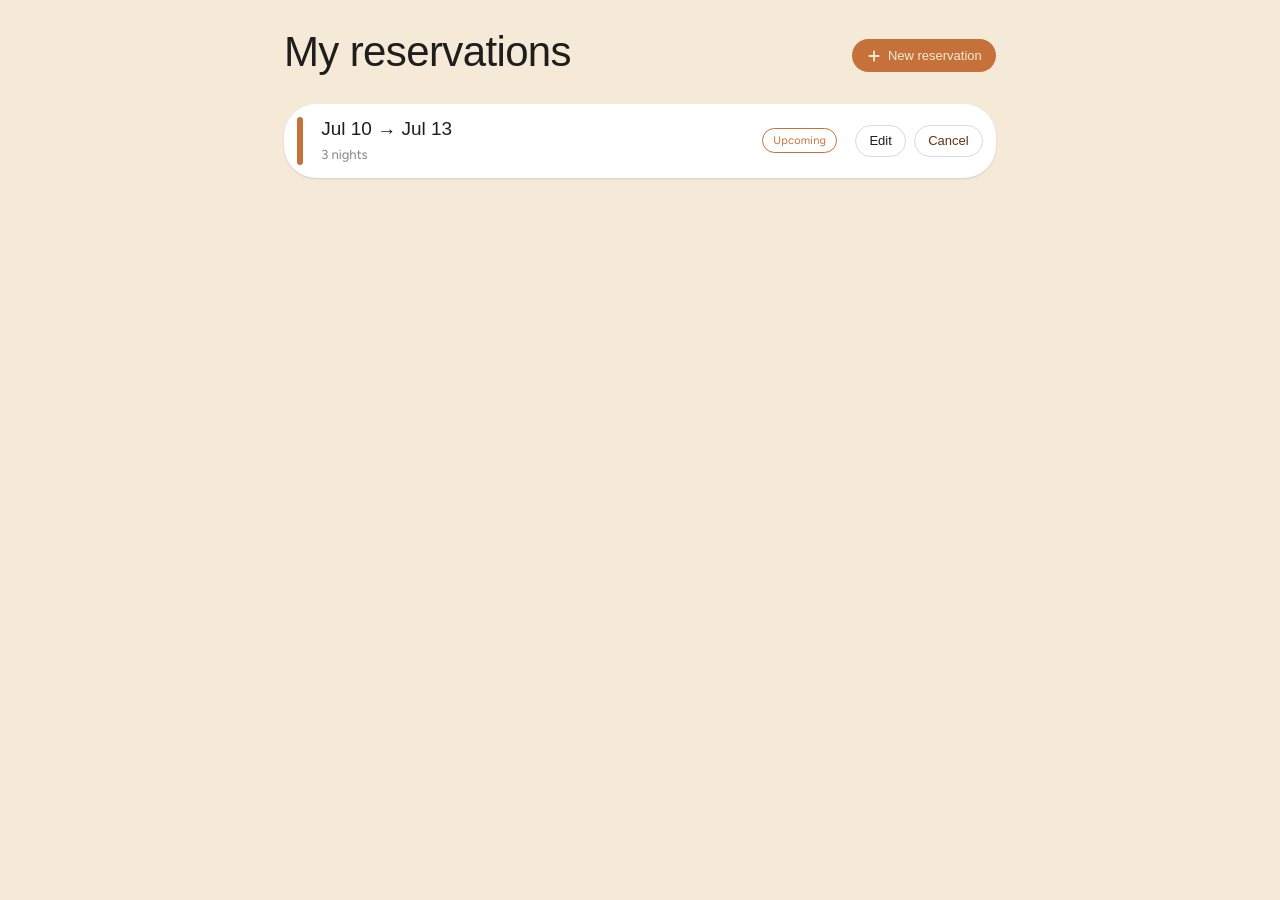
Scenario: CAP-024 Change or cancel a reservation — from My reservations › CAP-024 · New dates must still meet the booking limits (overlap shown, Save changes disabled)
Expected: the heading "My reservations" is shown, [284,28,571,75]
Click the button "Edit" at (881, 141), box [855,125,906,157]
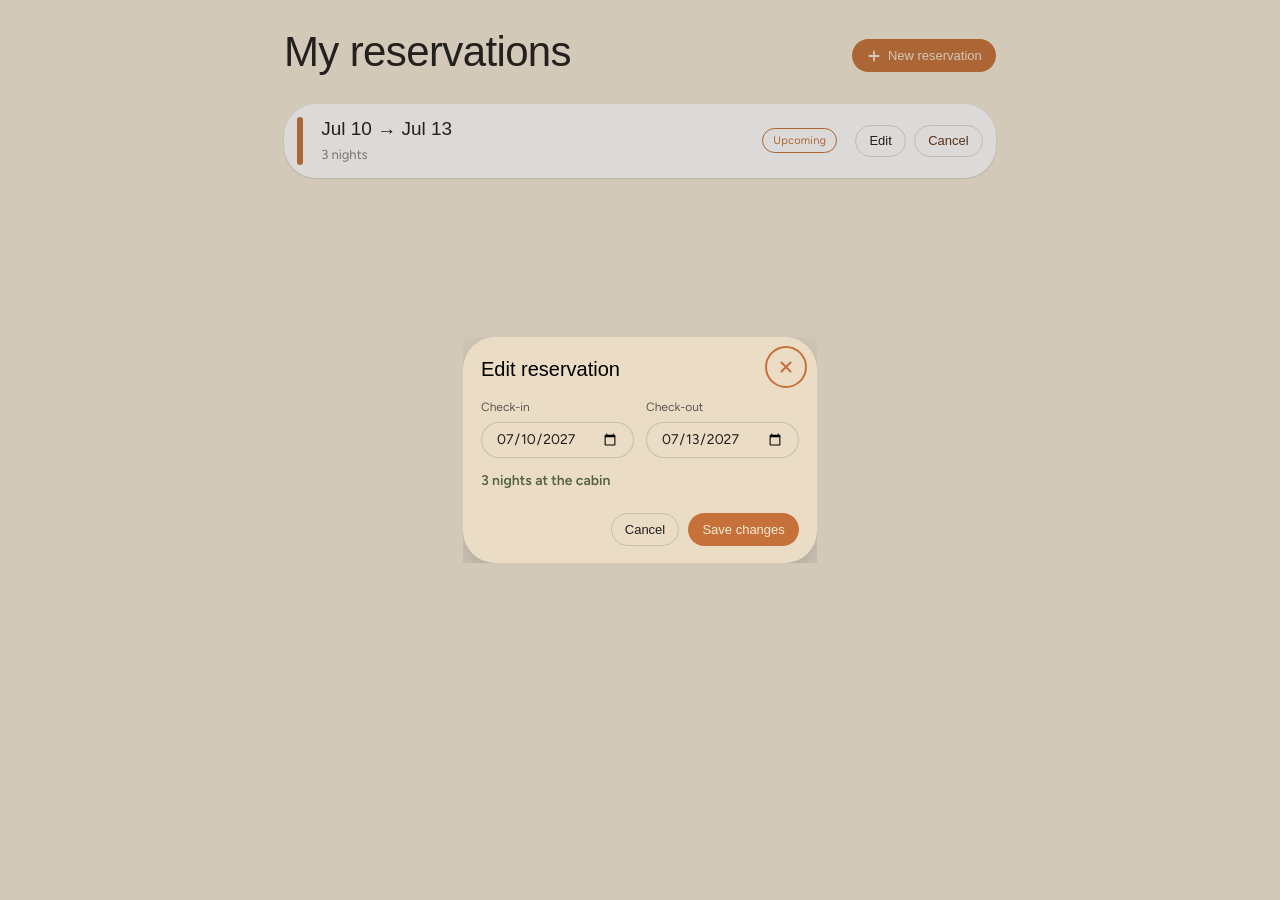
Type "2027-07-15" into the date field with id "booking-check-out" at (722, 440), box [646,422,799,458]
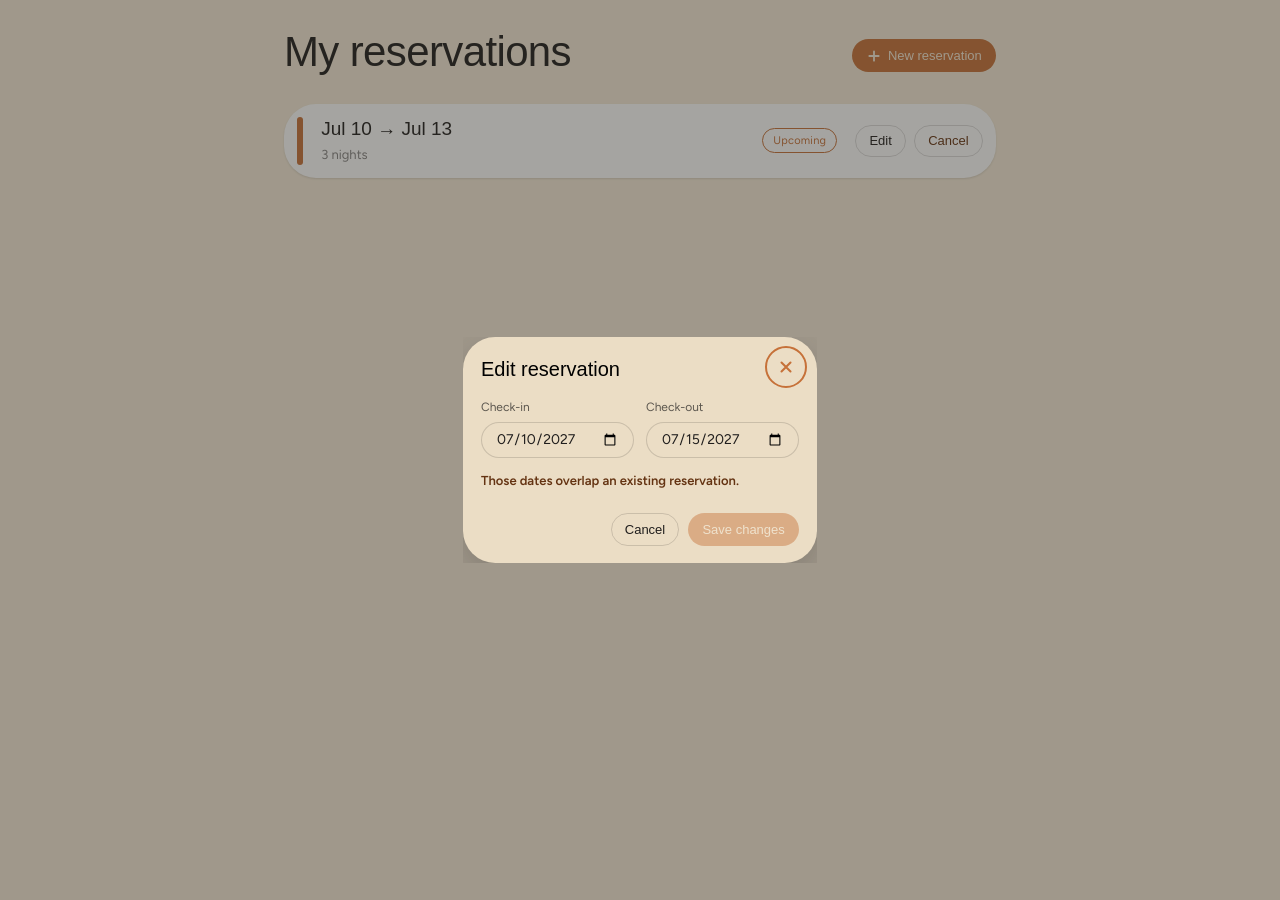
Now the text "Those dates overlap an existing reservation." is shown, box [481,473,739,488]
Now the button "Save changes" is disabled, box [688,513,799,546]
